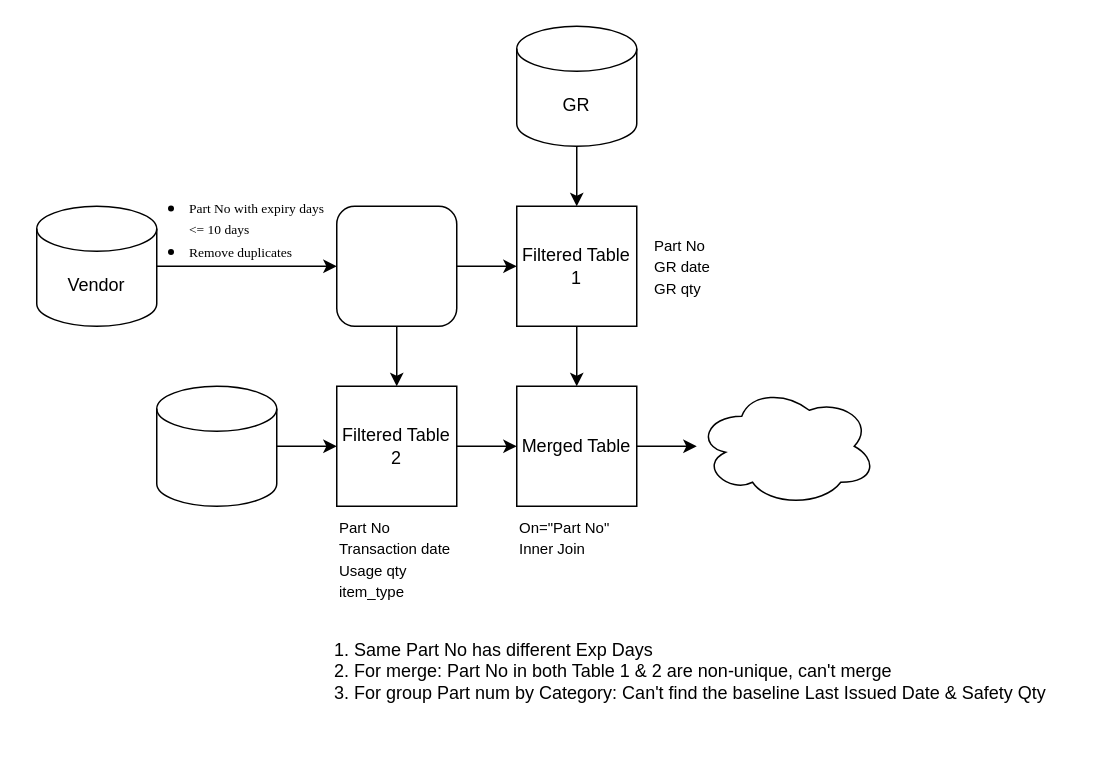
Image size: 1098x758. Some labels were removed from this diagram. Each missing label, with the centre of its shape:
"Part No Candidates" belongs at (396,265).
"Transaction" belongs at (216,445).
"Visualization" belongs at (786,445).
